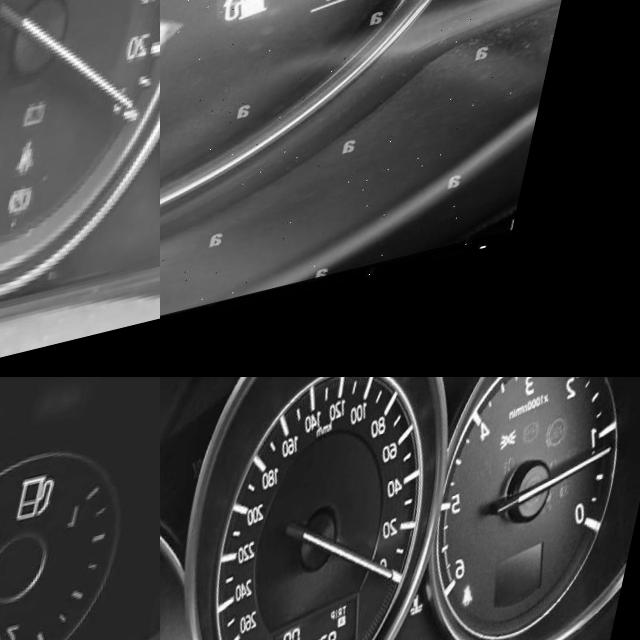Seat Belt: (32, 160, 58, 199), (480, 606, 497, 632)
